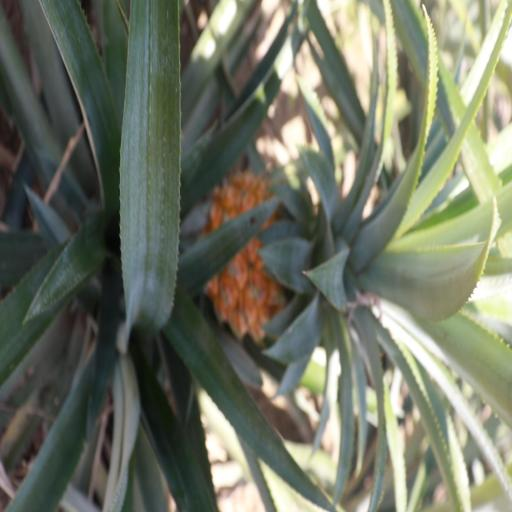Pineapple - v8 v1: (207, 174, 502, 344)
